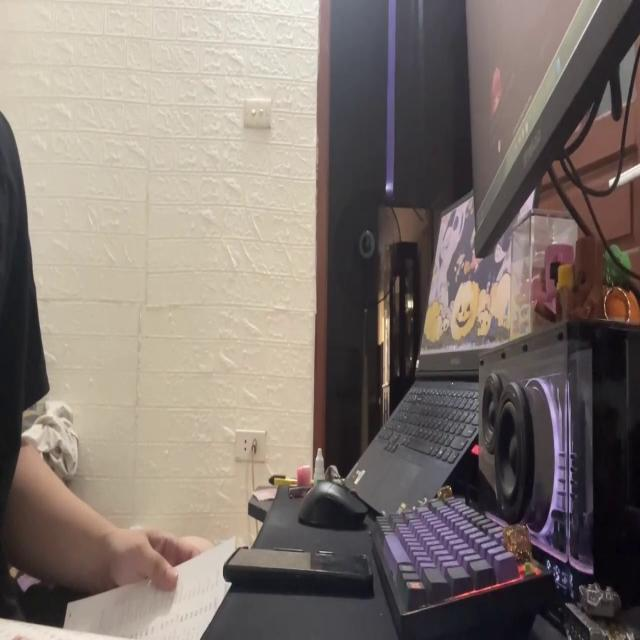book: (1, 535, 237, 640)
laptop: (344, 166, 544, 526), (465, 0, 640, 248)
phone: (218, 538, 374, 596)
student: (0, 104, 228, 638)
